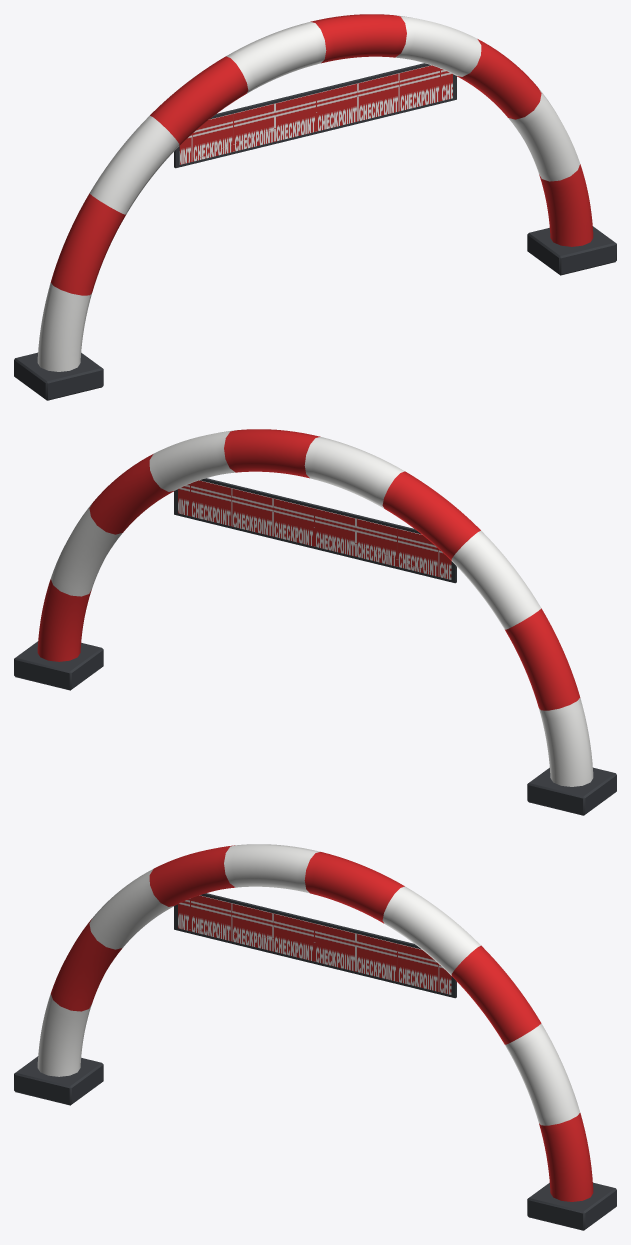
Rendered from race-checkpoint-arch.glb.
3 views of the same model, one above another, from view 1: azimuth 30°, elevation 25°; view 2: azimuth 150°, elevation 25°; view 3: azimuth 330°, elevation 25° (orthographic).
Parts seen in each view (by area): view 1: Race_Checkpoint_Arch; view 2: Race_Checkpoint_Arch; view 3: Race_Checkpoint_Arch.
Boxes of the visible parts, bbox=[...] form: Race_Checkpoint_Arch: bbox=[14, 14, 616, 400]; Race_Checkpoint_Arch: bbox=[14, 429, 616, 815]; Race_Checkpoint_Arch: bbox=[14, 844, 616, 1230].
Bounding box in the file's own units: 13.8 × 6.85 × 1.4.
4 materials, 1 textured.
